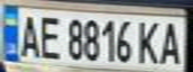1: (100, 17, 118, 62)
6: (115, 17, 139, 63)
8: (63, 15, 84, 61), (81, 16, 100, 61)
A: (157, 18, 187, 65), (15, 11, 42, 58)
E: (36, 12, 63, 61)
K: (136, 17, 163, 65)
